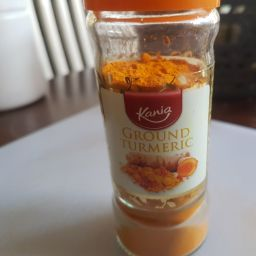Turmeric dried: (77, 34, 224, 255), (91, 42, 218, 107), (115, 114, 197, 171)
